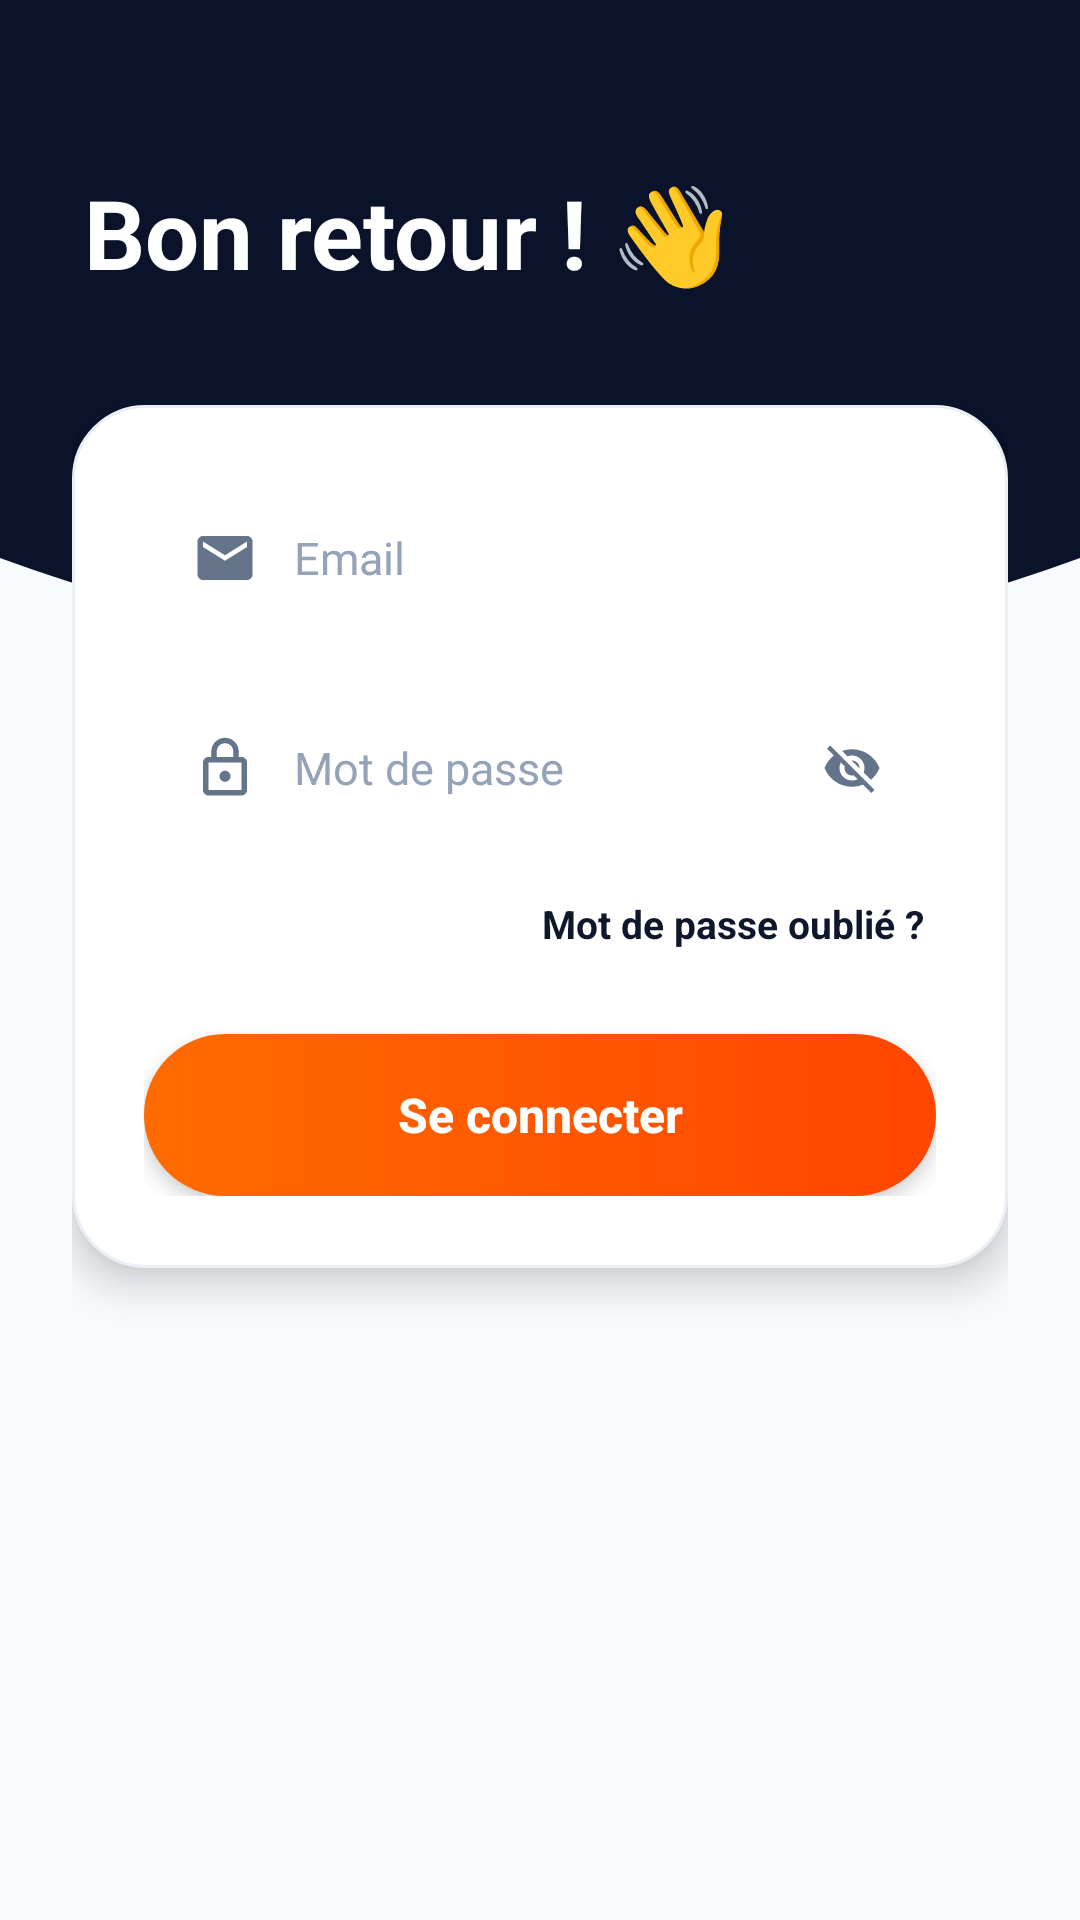

Screen size 1080 x 1920. Icon name, then its center in pixels as (x=x, y=y):
eye off: (x=852, y=769)
lock: (x=225, y=766)
